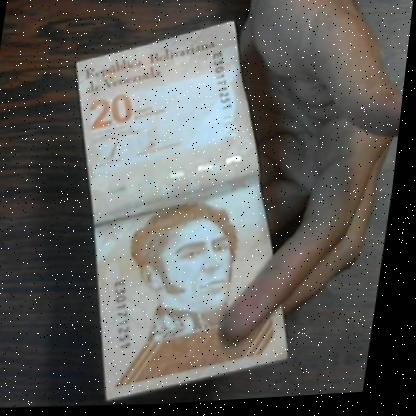twenty-front-vef: (5, 5, 411, 414)
